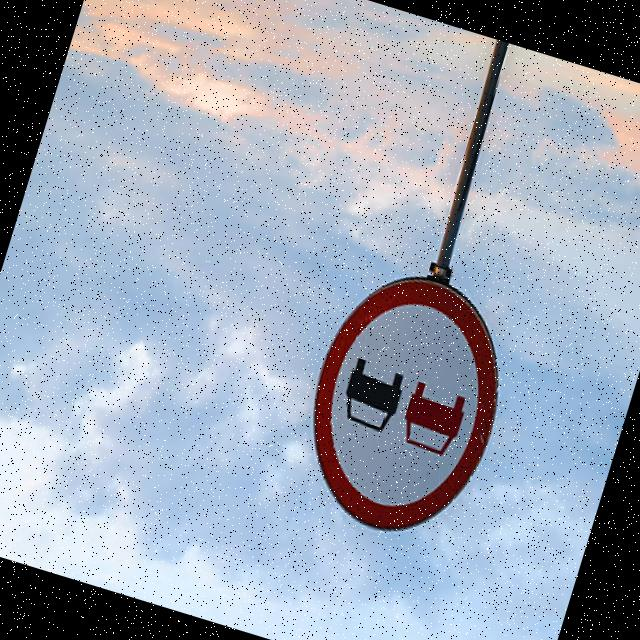no_passing: (269, 241, 538, 565)
